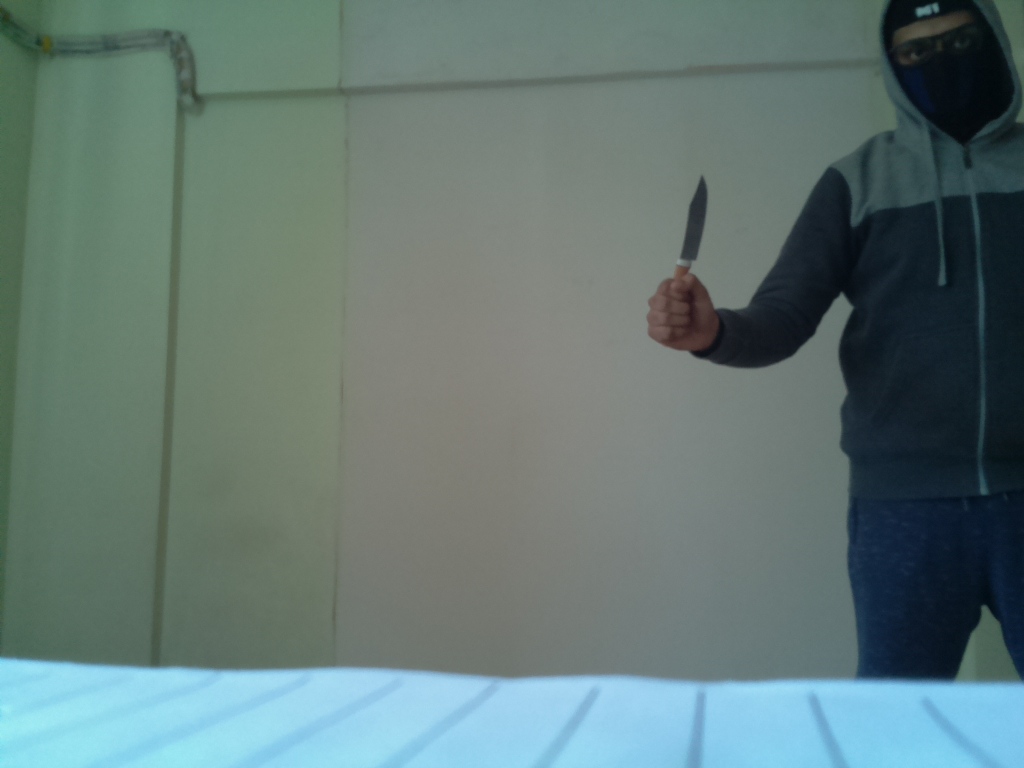knife: (666, 165, 718, 290)
